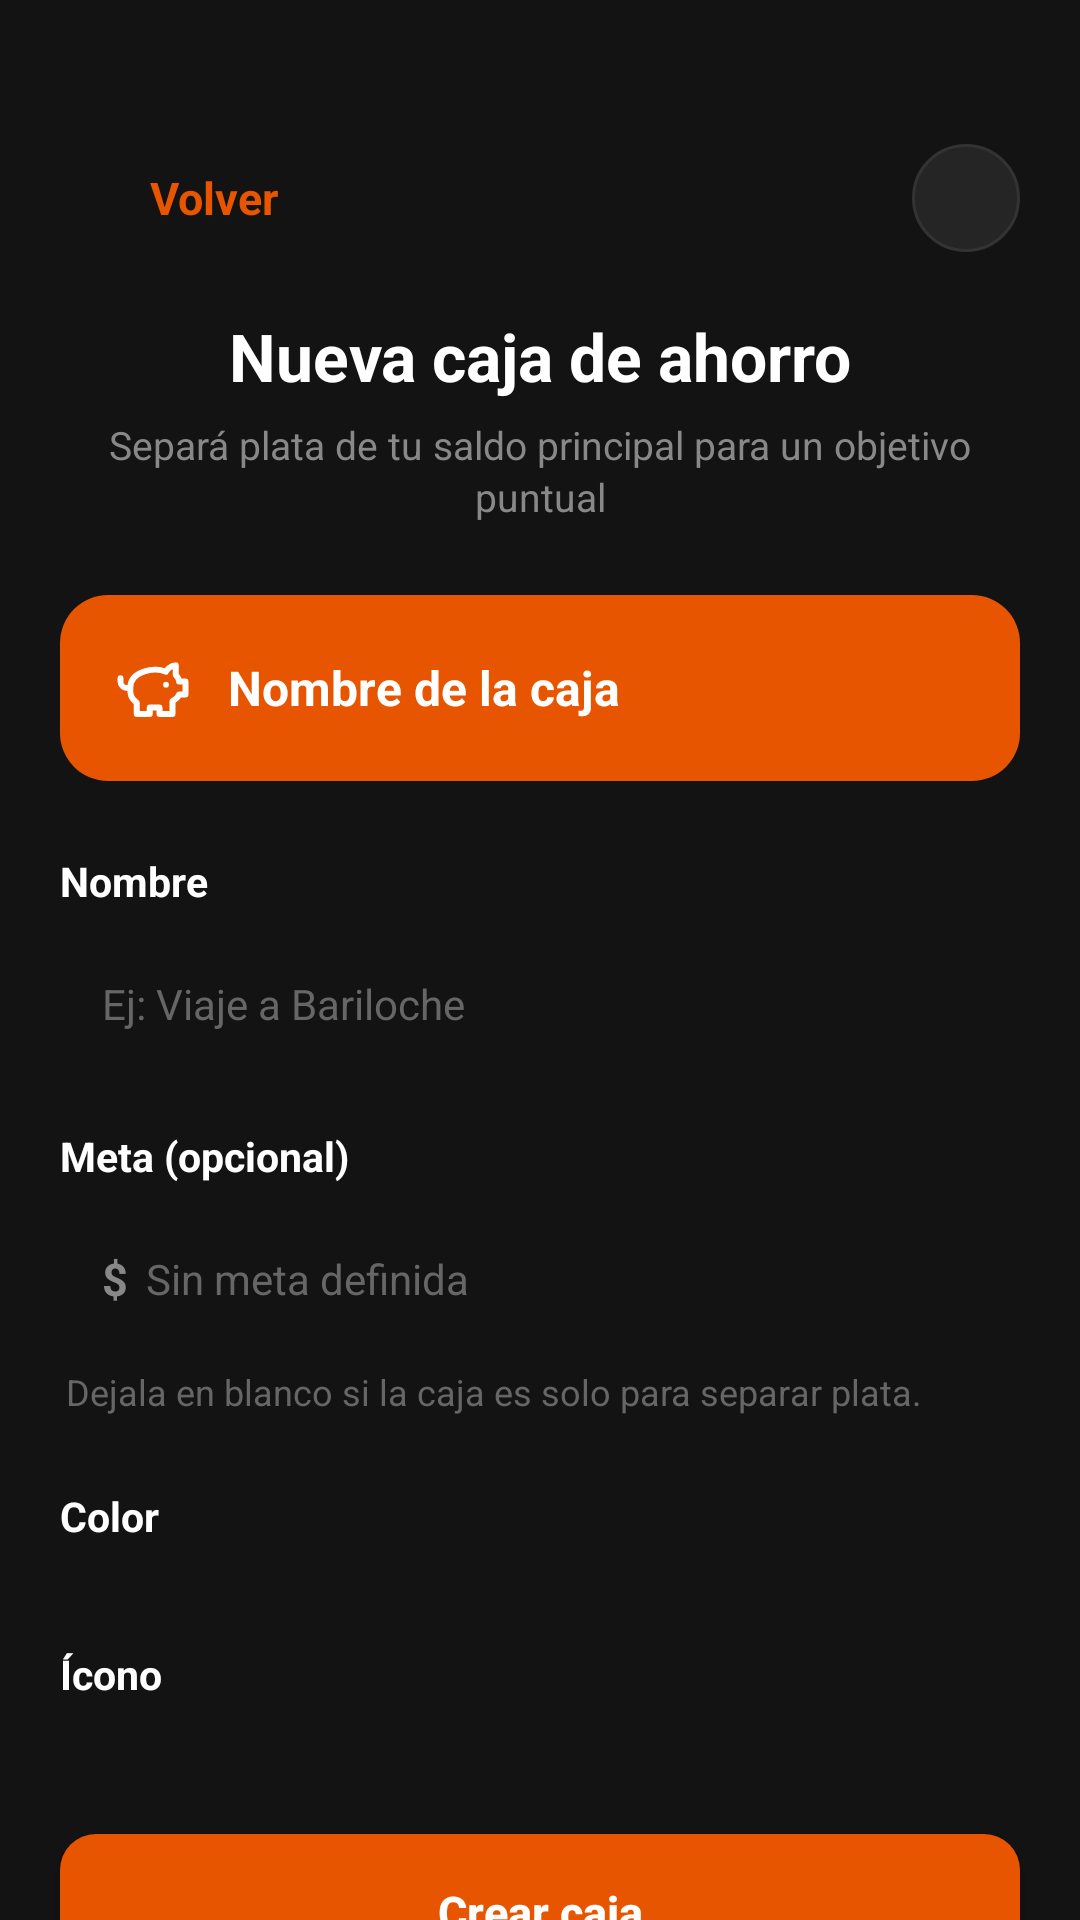

Icons on this 1080×1920 Android screen, each with the point to tap as (x,y):
piggy bank: (153,689)
